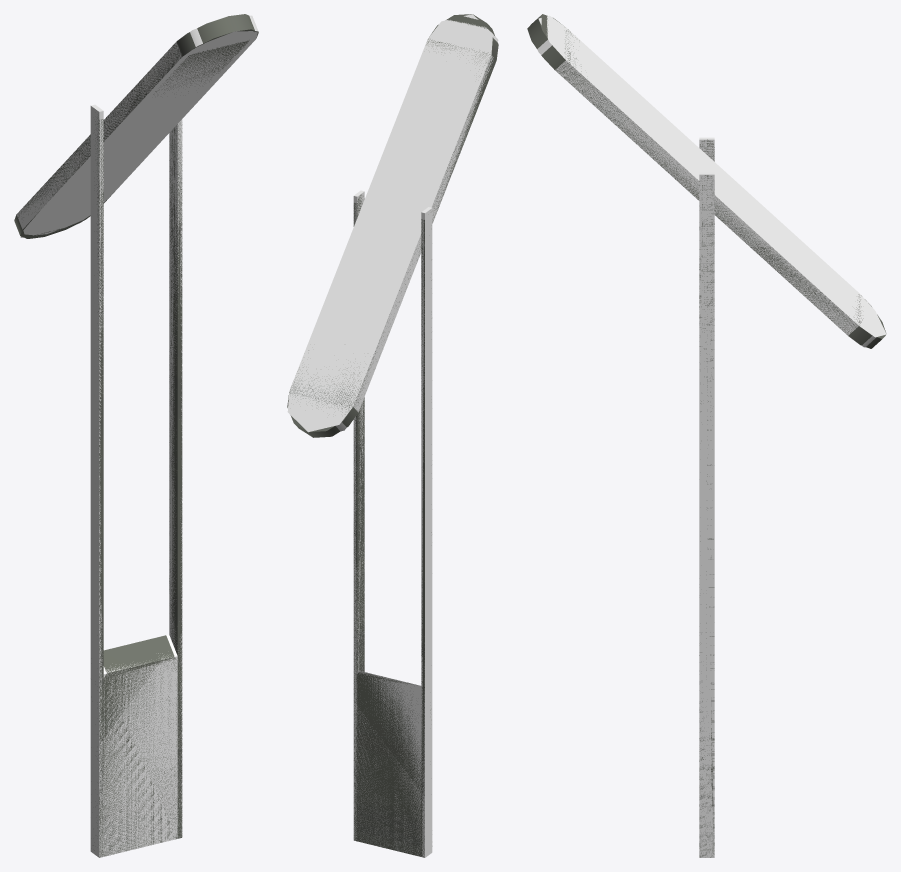
Rendered from objects_un_c03streetlight02.gltf.
3 renders of one model, left to right at view 1: azimuth 30°, elevation 25°; view 2: azimuth 150°, elevation 25°; view 3: azimuth 270°, elevation 25°, orthographic. The views are drawn at different scales.
Parts seen in each view (by area): view 1: shadow_model_shape:objects_un_c03streetlight02_shadow, nomerge_body_mesh_shape:objects_un_c03streetlight02_01, nomerge_light_mesh_shape:objects_un_c03streetlight02_01; view 2: shadow_model_shape:objects_un_c03streetlight02_shadow, nomerge_body_mesh_shape:objects_un_c03streetlight02_01, nomerge_light_mesh_shape:objects_un_c03streetlight02_01; view 3: shadow_model_shape:objects_un_c03streetlight02_shadow, nomerge_light_mesh_shape:objects_un_c03streetlight02_01, nomerge_body_mesh_shape:objects_un_c03streetlight02_01.
Part boxes in pixels (x1,y1,x2,y2): shadow_model_shape:objects_un_c03streetlight02_shadow: (17,15,258,857); nomerge_body_mesh_shape:objects_un_c03streetlight02_01: (93,115,182,857); nomerge_light_mesh_shape:objects_un_c03streetlight02_01: (14,14,258,238); shadow_model_shape:objects_un_c03streetlight02_shadow: (287,14,498,857); nomerge_body_mesh_shape:objects_un_c03streetlight02_01: (353,194,432,857); nomerge_light_mesh_shape:objects_un_c03streetlight02_01: (287,14,498,437); shadow_model_shape:objects_un_c03streetlight02_shadow: (537,15,886,857); nomerge_light_mesh_shape:objects_un_c03streetlight02_01: (527,14,886,348); nomerge_body_mesh_shape:objects_un_c03streetlight02_01: (699,139,714,857).
Size of what is drawn, in the model's own units: 0.56 by 5.79 by 2.3.
Materials: 2 (1 with a texture image).
